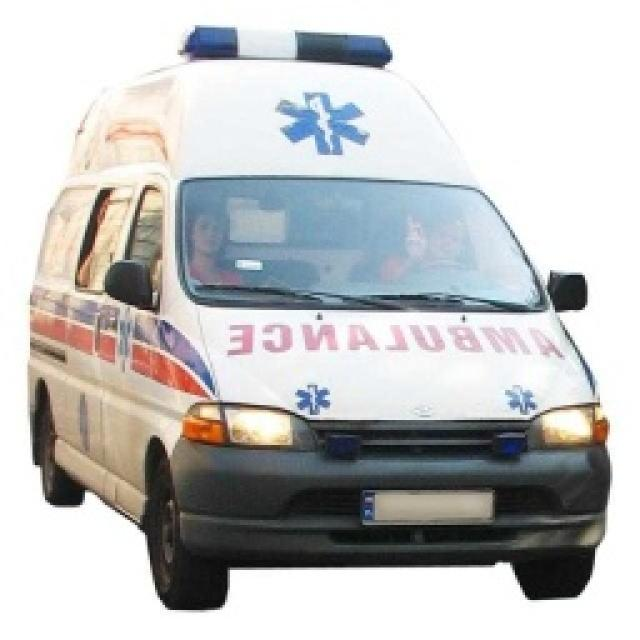emergency-vehicle: (31, 25, 638, 640)
